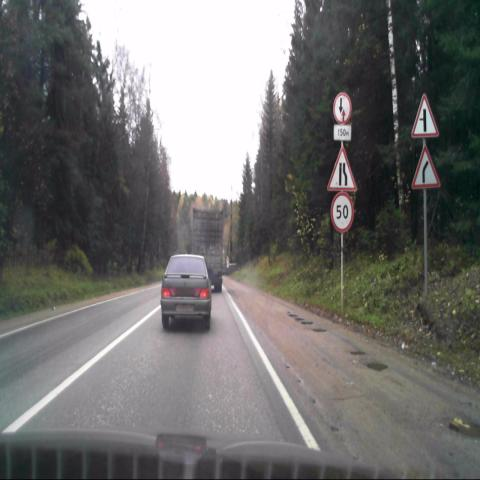1_11: (411, 144, 440, 188)
1_20_2: (327, 146, 357, 192)
2_6: (333, 91, 352, 124)
8_1_1: (333, 125, 352, 140)
